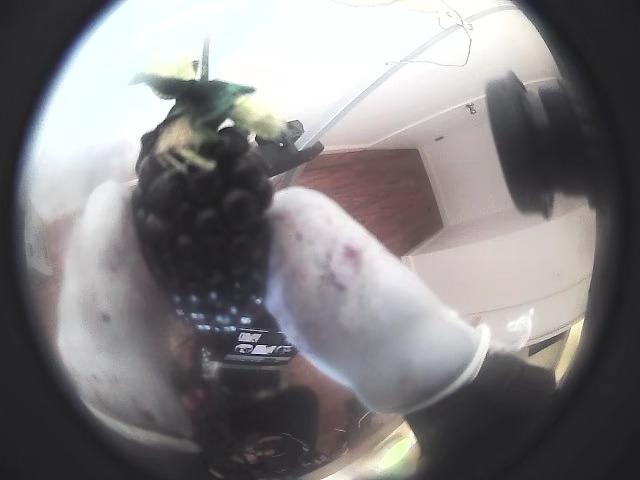berry: (131, 60, 314, 326)
gripper: (267, 186, 490, 414), (56, 180, 198, 452)
lense: (0, 0, 153, 479), (500, 0, 639, 479)
